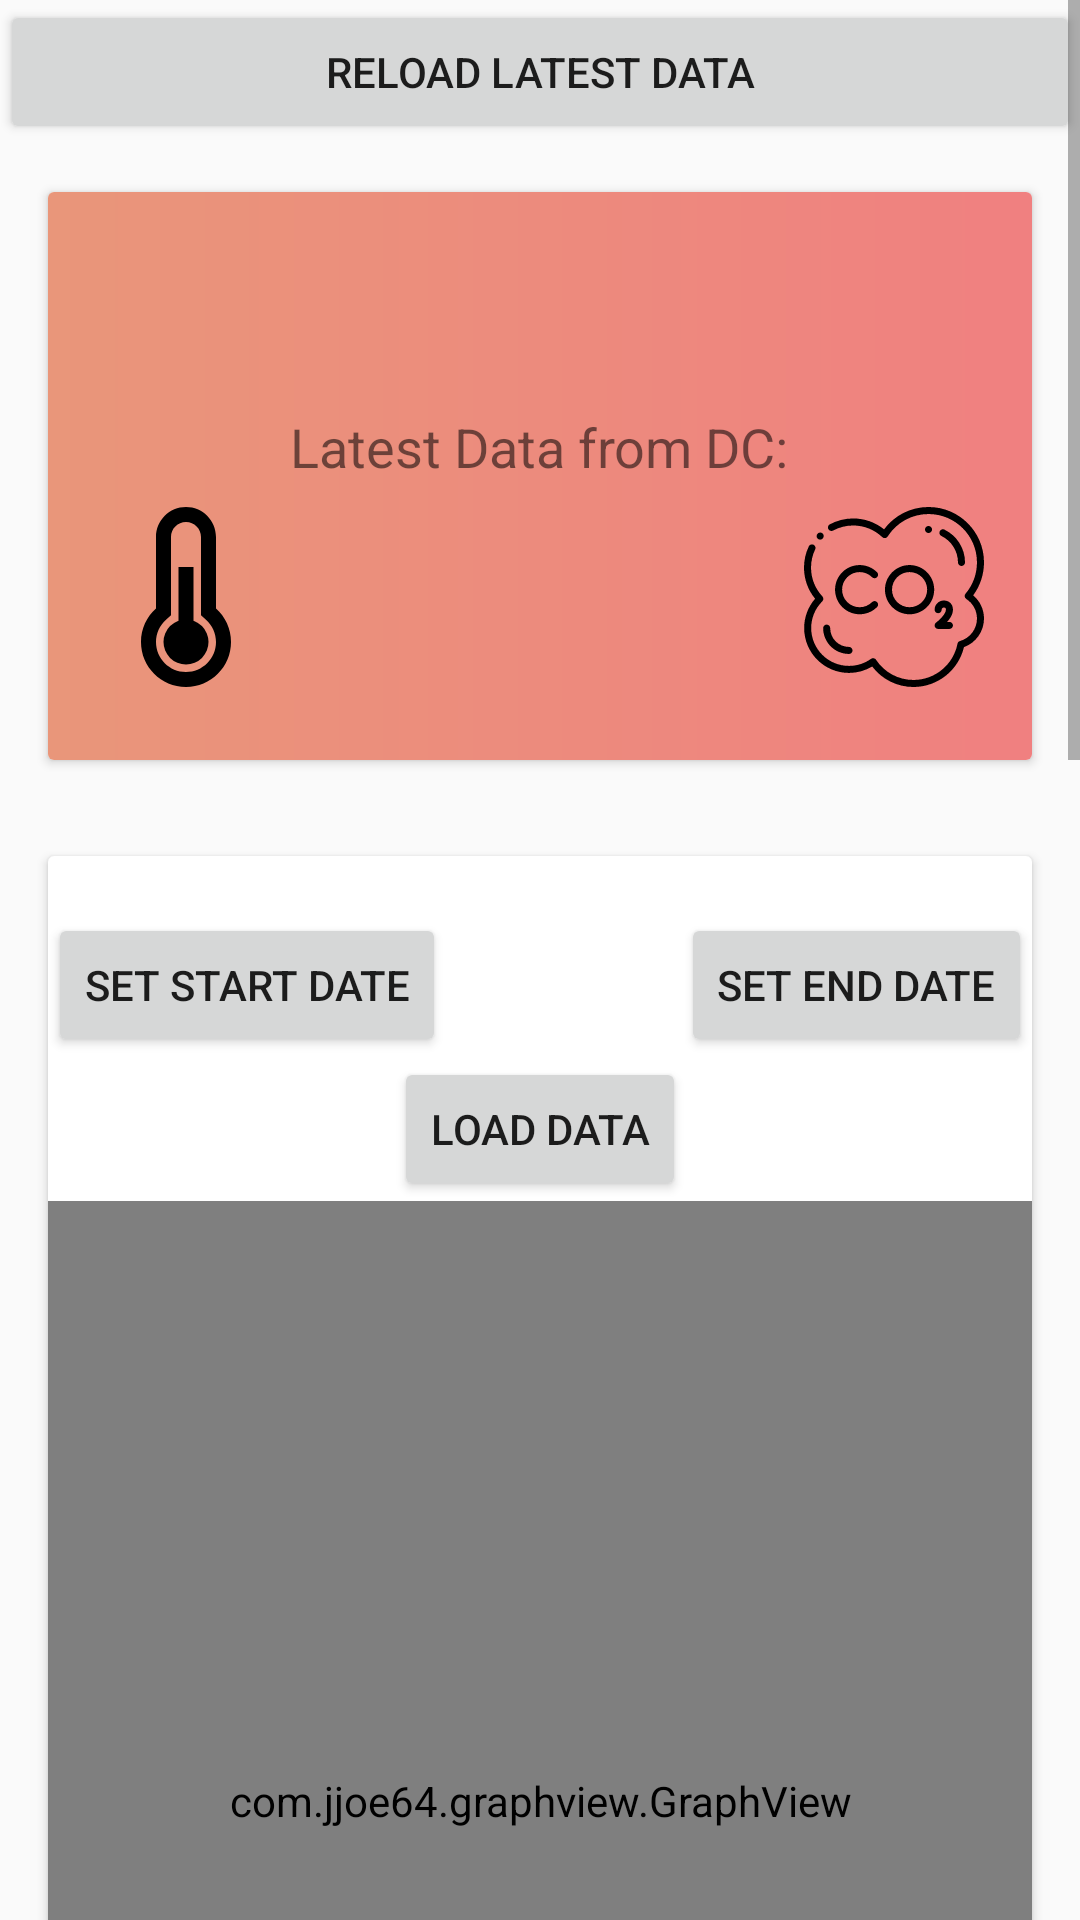

Point at icon controls on the screen. Image size 1080*1920, points as [x,y].
temperature: [186,597]
